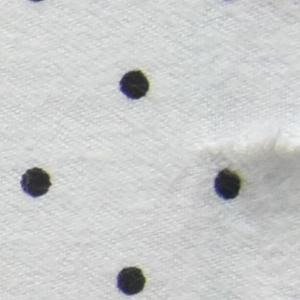Wrinkle: (190, 138, 300, 240)
